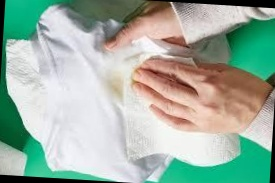oil: (105, 76, 123, 98)
